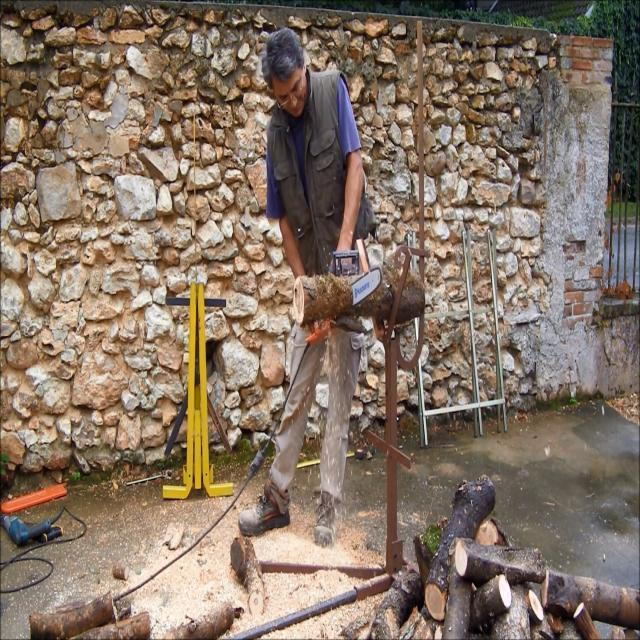Chainsaw: (298, 210, 387, 368)
